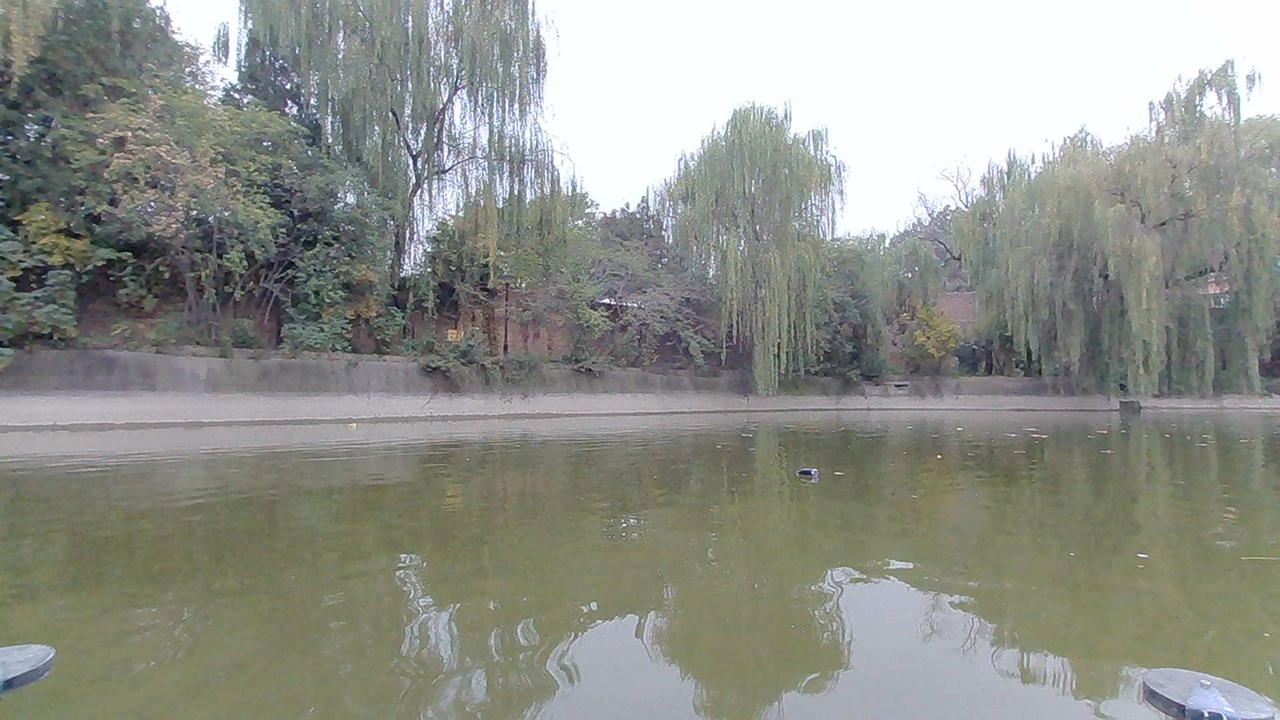bottle: (796, 461, 824, 487)
